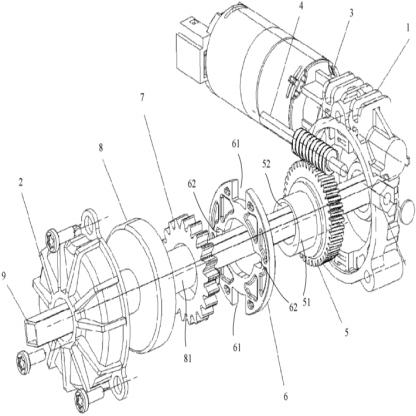FOD: (159, 210, 221, 325)
